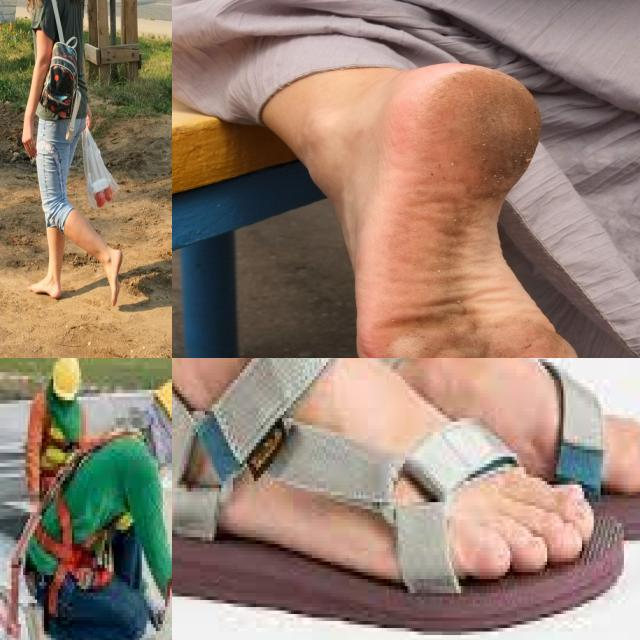Barefoots: (353, 63, 614, 358), (108, 250, 123, 306), (27, 278, 62, 299)
Harness: (34, 492, 114, 618)
Sandals: (172, 358, 624, 632)
